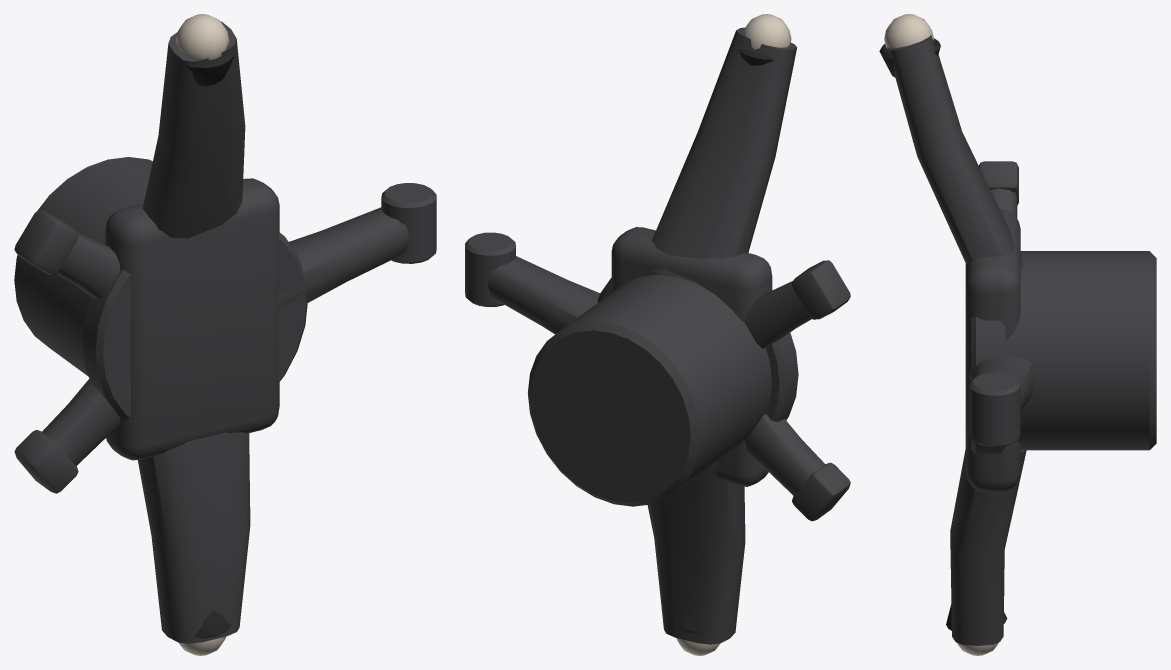
File: SM_Susp_FL_Upright.fbx
The picture shows the model from 3 angles, left to right: view 1: azimuth 30°, elevation 25°; view 2: azimuth 150°, elevation 25°; view 3: azimuth 270°, elevation 25°; orthographic projection. The views are drawn at different scales.
Visible parts, largest first — view 1: Export_Susp_FL_Upright; view 2: Export_Susp_FL_Upright; view 3: Export_Susp_FL_Upright.
Part boxes in pixels (<box>): Export_Susp_FL_Upright: <box>14,14,436,655</box>; Export_Susp_FL_Upright: <box>465,14,850,655</box>; Export_Susp_FL_Upright: <box>879,14,1156,655</box>.
Bounding box in the file's own units: 0.1613 × 0.2535 × 0.399.
